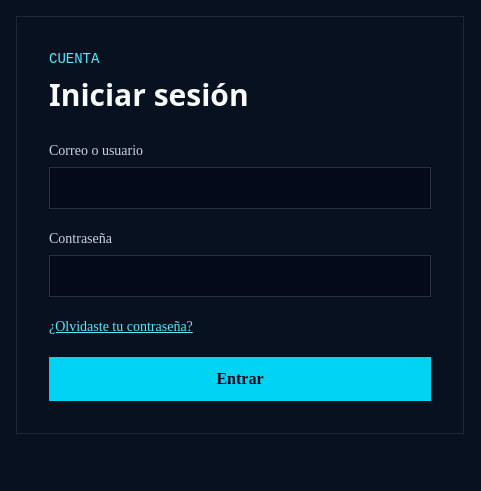
Test case: LoginForm › muestra el error devuelto por la API
In the field labelled "Correo o usuario": (240, 188) top-left (49, 167), bottom-right (431, 209), type "alguien@correo.com"
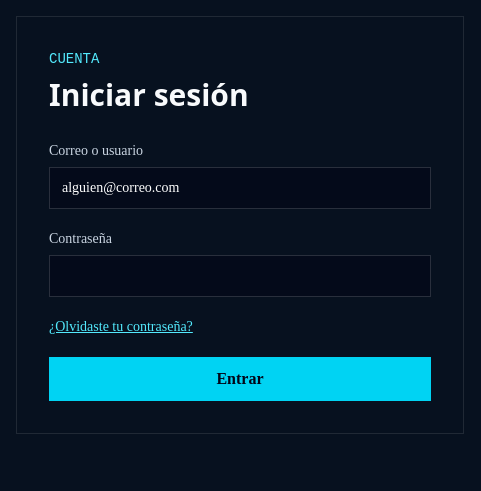
In the password field labelled "Contraseña": (240, 276) top-left (49, 255), bottom-right (431, 297), type "incorrecta"
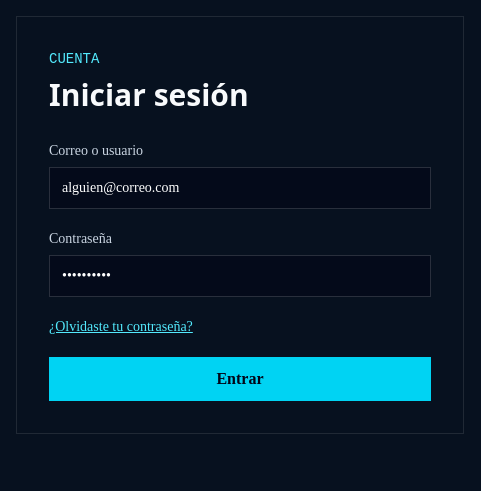
Click the button "Entrar": (240, 379) top-left (49, 357), bottom-right (431, 401)
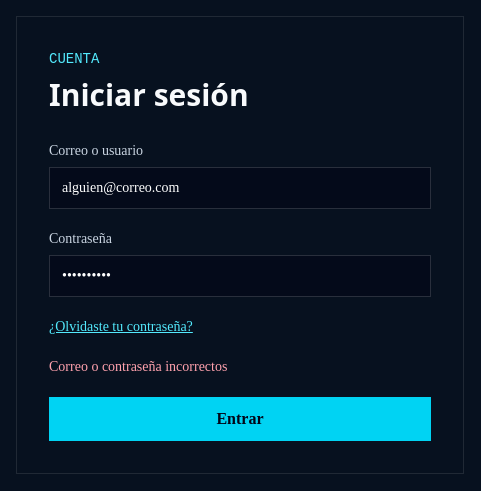
Expected: the message reads "Correo o contraseña incorrectos", top-left (49, 359), bottom-right (227, 374)
